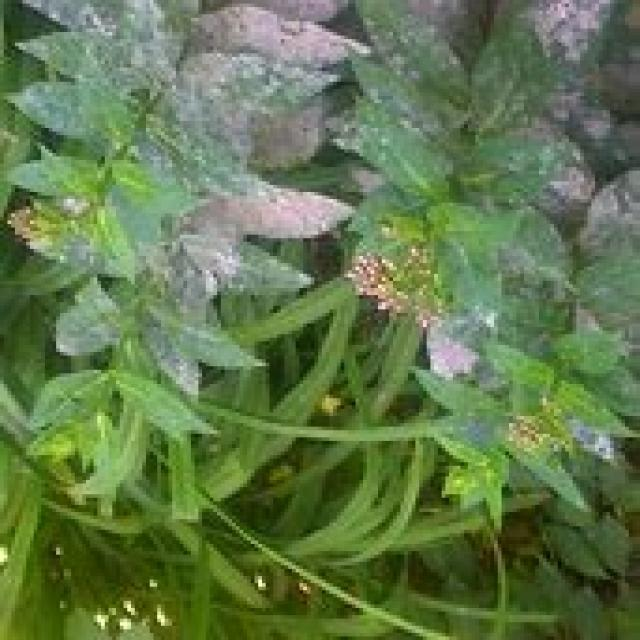Leaf_Mold: (45, 0, 324, 462)
